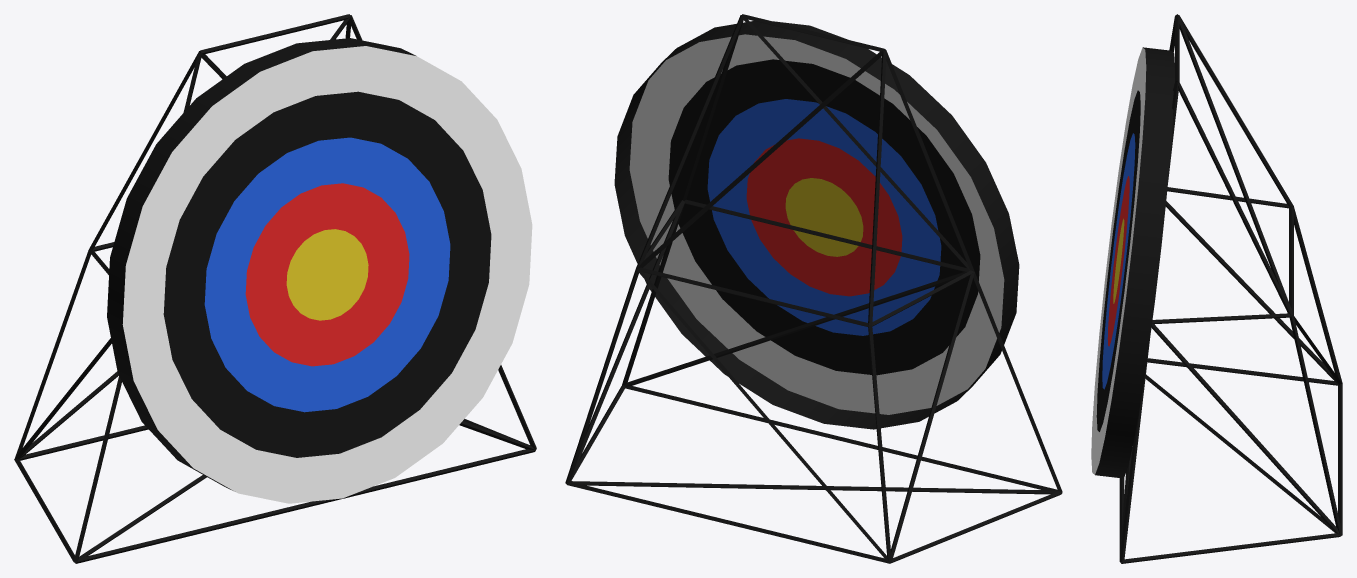
File: IntroTarget.FBX
The picture shows the model from 3 angles, left to right: view 1: azimuth 30°, elevation 25°; view 2: azimuth 150°, elevation 25°; view 3: azimuth 270°, elevation 25°; orthographic projection. The views are drawn at different scales.
Visible parts, largest first — view 1: Box037; view 2: Box037; view 3: Box037.
Boxes of the visible parts, x1=… form: Box037: x1=14, y1=14, x2=536, y2=563; Box037: x1=565, y1=14, x2=1062, y2=563; Box037: x1=1091, y1=14, x2=1342, y2=563.
Bounding box in the file's own units: 411 × 384 × 211.
